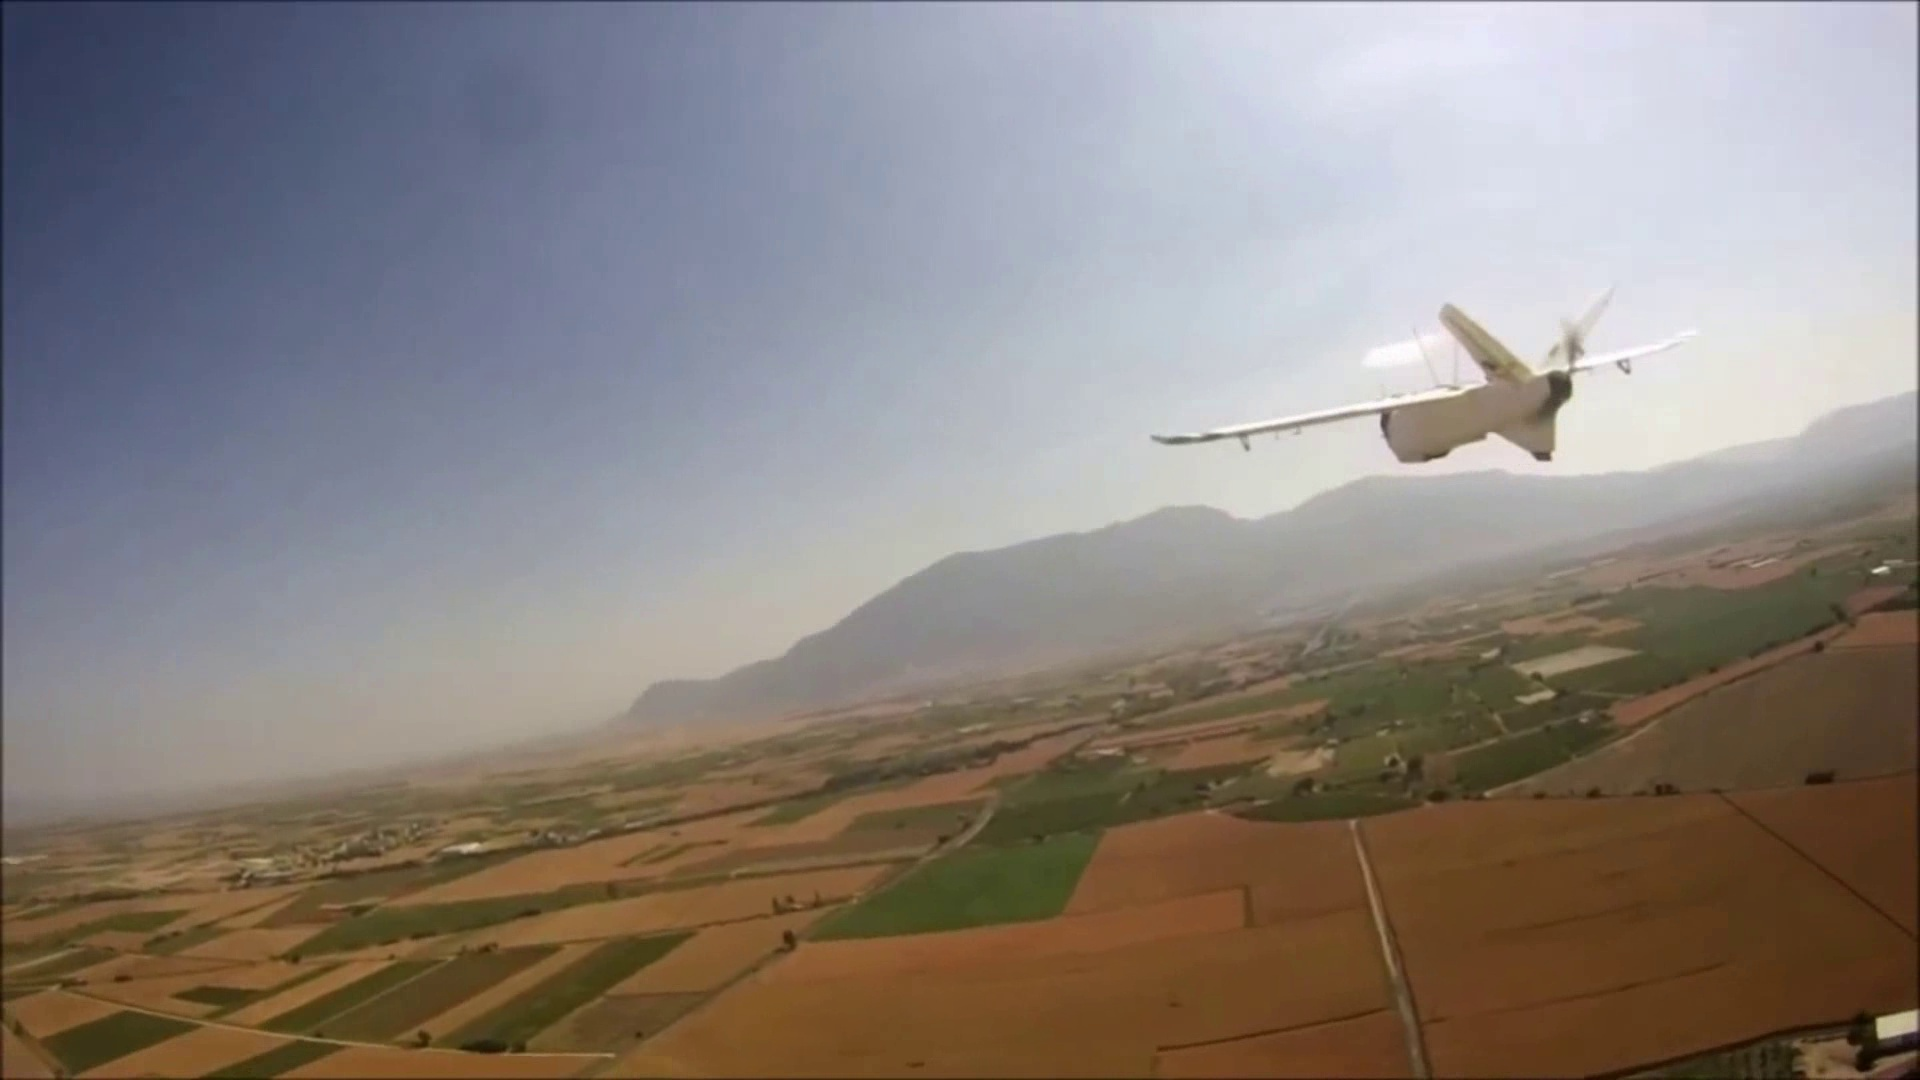airplane: (1149, 287, 1702, 476)
